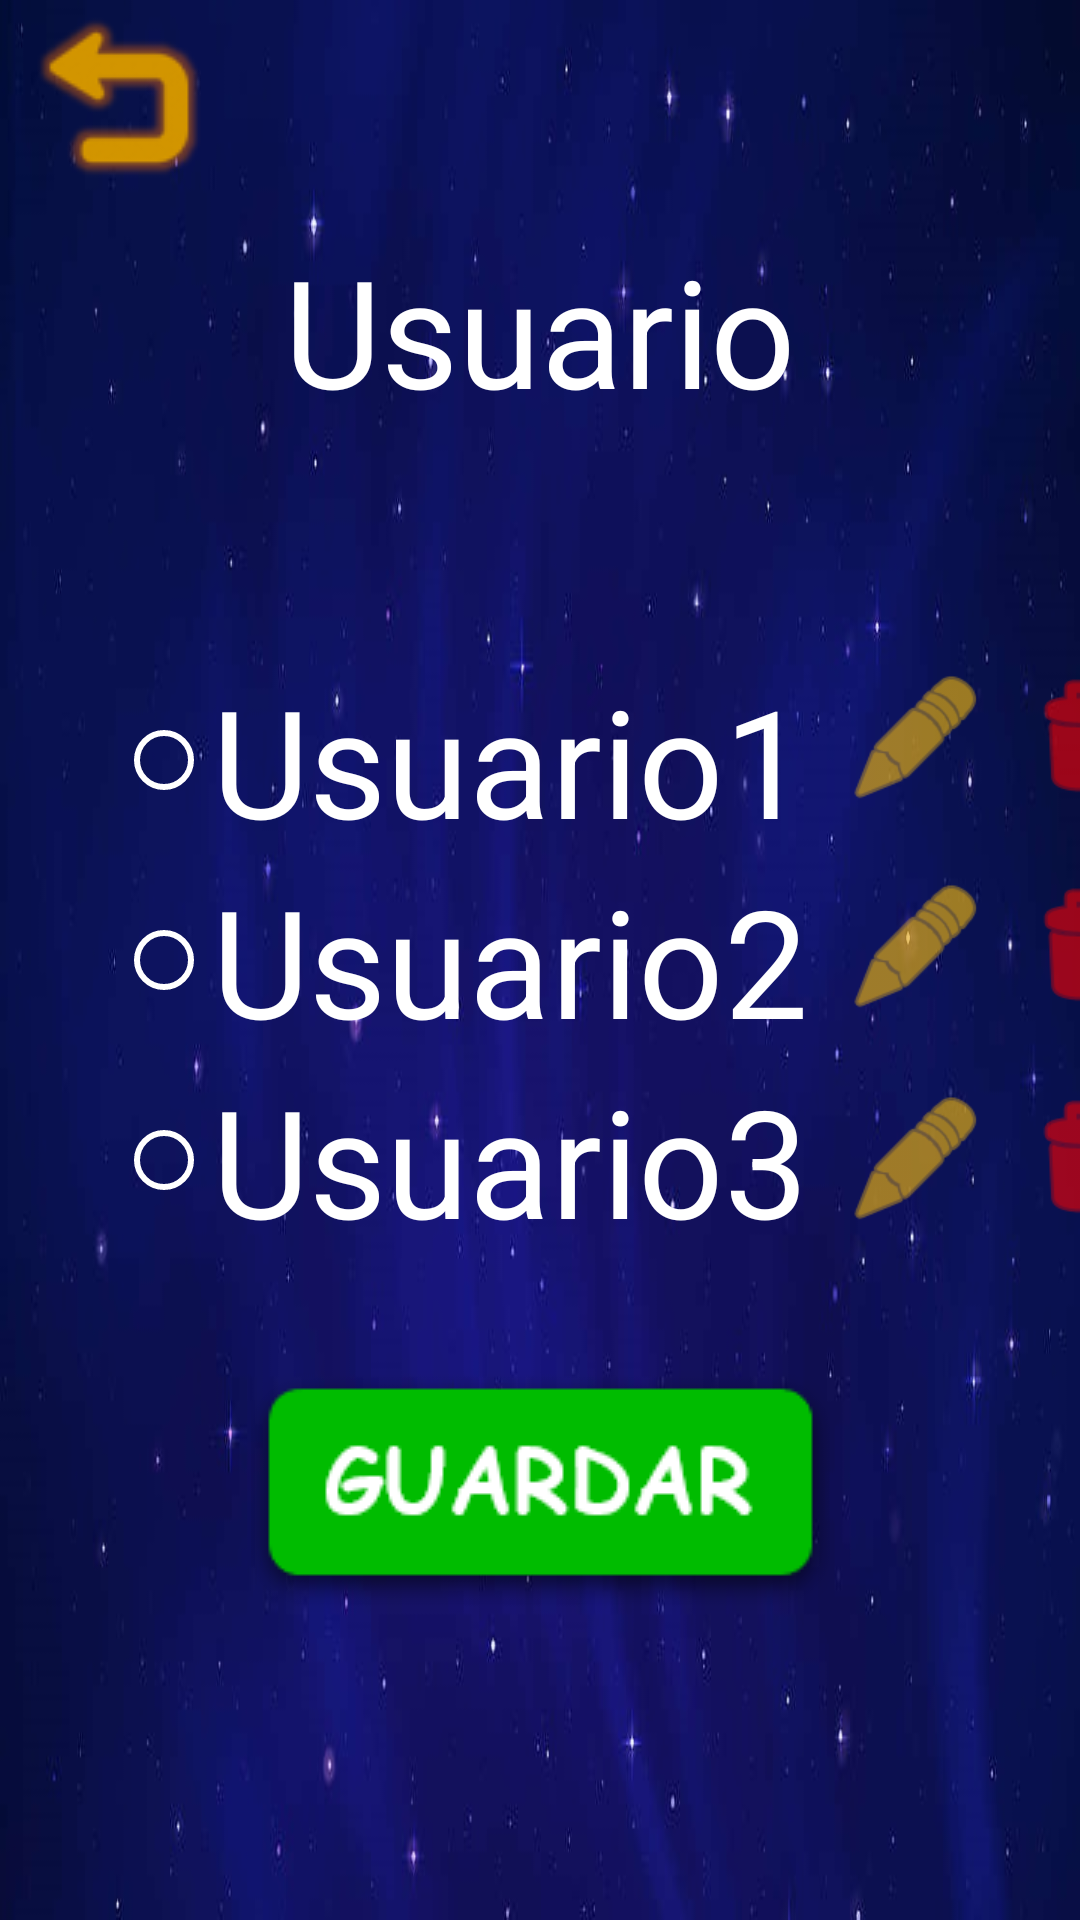

Where to tap for icons on this 1080×1920 app screen, as [x,y]:
Back Button: [100,97]
